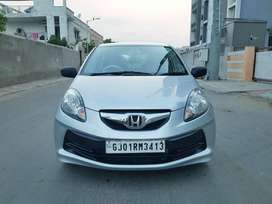GJ01RM3413: (105, 140, 165, 153)
